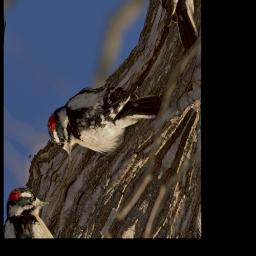Woodpecker: (39, 37, 166, 198)
